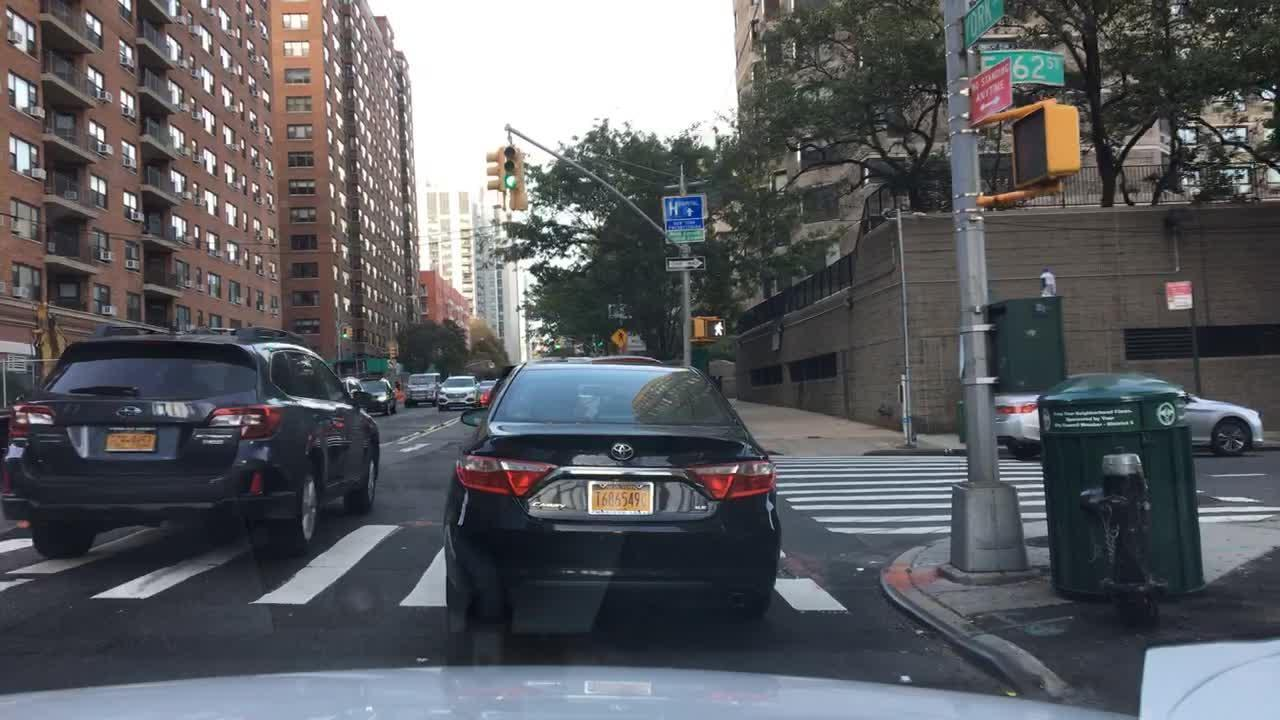Toyota: (606, 437, 645, 465)
subaru: (113, 402, 147, 423)
